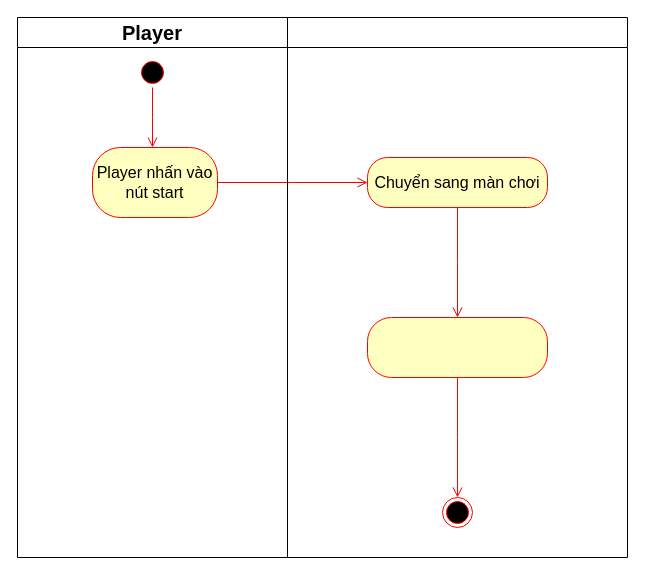
This 645x575 diagram has some shape labels left out. Each missing label, with the box of its shape:
Khởi tạo các đối tượng: (366, 316, 548, 378)
System: (286, 16, 628, 558)
